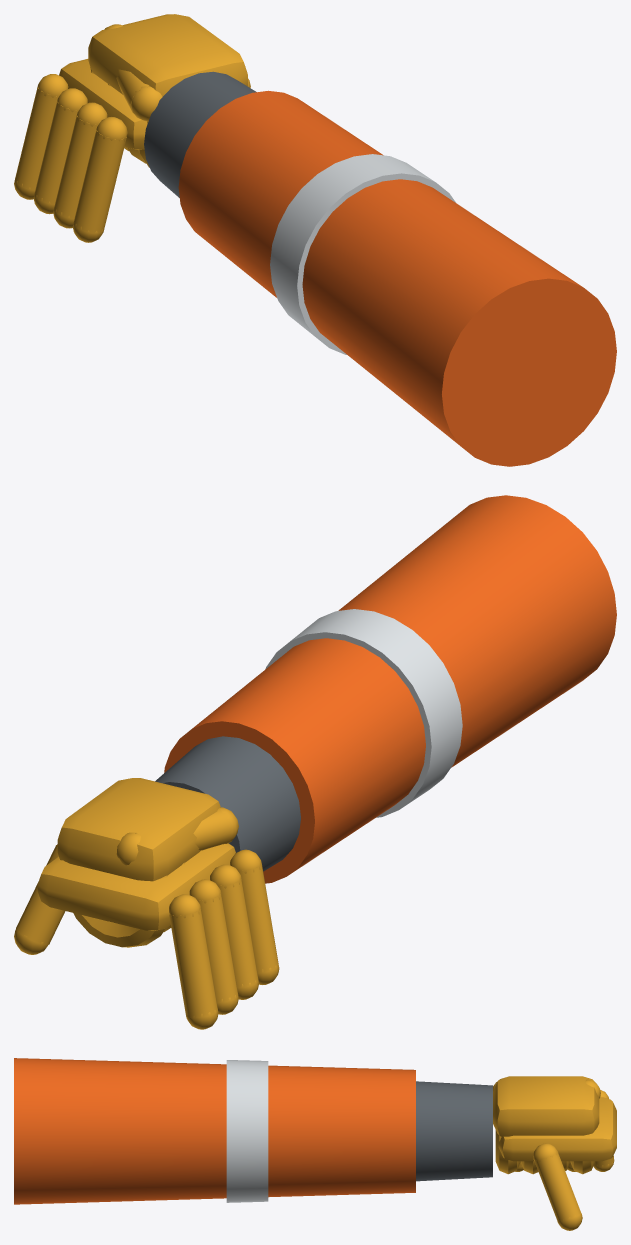
Rendered from fp_arms.gltf.
The picture shows the model from 3 angles, top to bottom: view 1: azimuth 30°, elevation 25°; view 2: azimuth 150°, elevation 25°; view 3: azimuth 270°, elevation 25°; orthographic projection. The views are drawn at different scales.
Visible parts, largest first — view 1: ArmL, ArmR; view 2: ArmL, ArmR; view 3: ArmL, ArmR.
Part boxes in pixels (x1,y1,x2,y2): ArmL: (14, 59, 616, 466); ArmR: (88, 14, 247, 167); ArmL: (14, 495, 616, 1029); ArmR: (57, 778, 238, 947); ArmL: (14, 1058, 616, 1230); ArmR: (493, 1076, 600, 1174).
Size of the model in its own units: 0.1528 by 0.1298 by 0.51.
